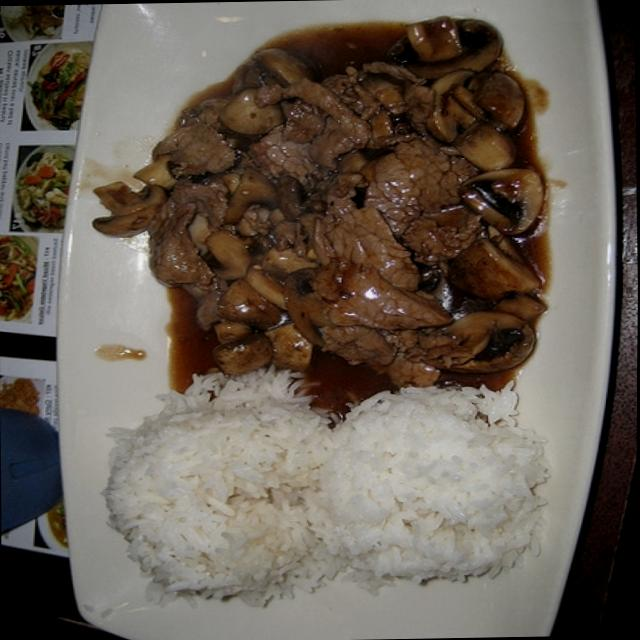牛肉菜式: (32, 0, 603, 624)
